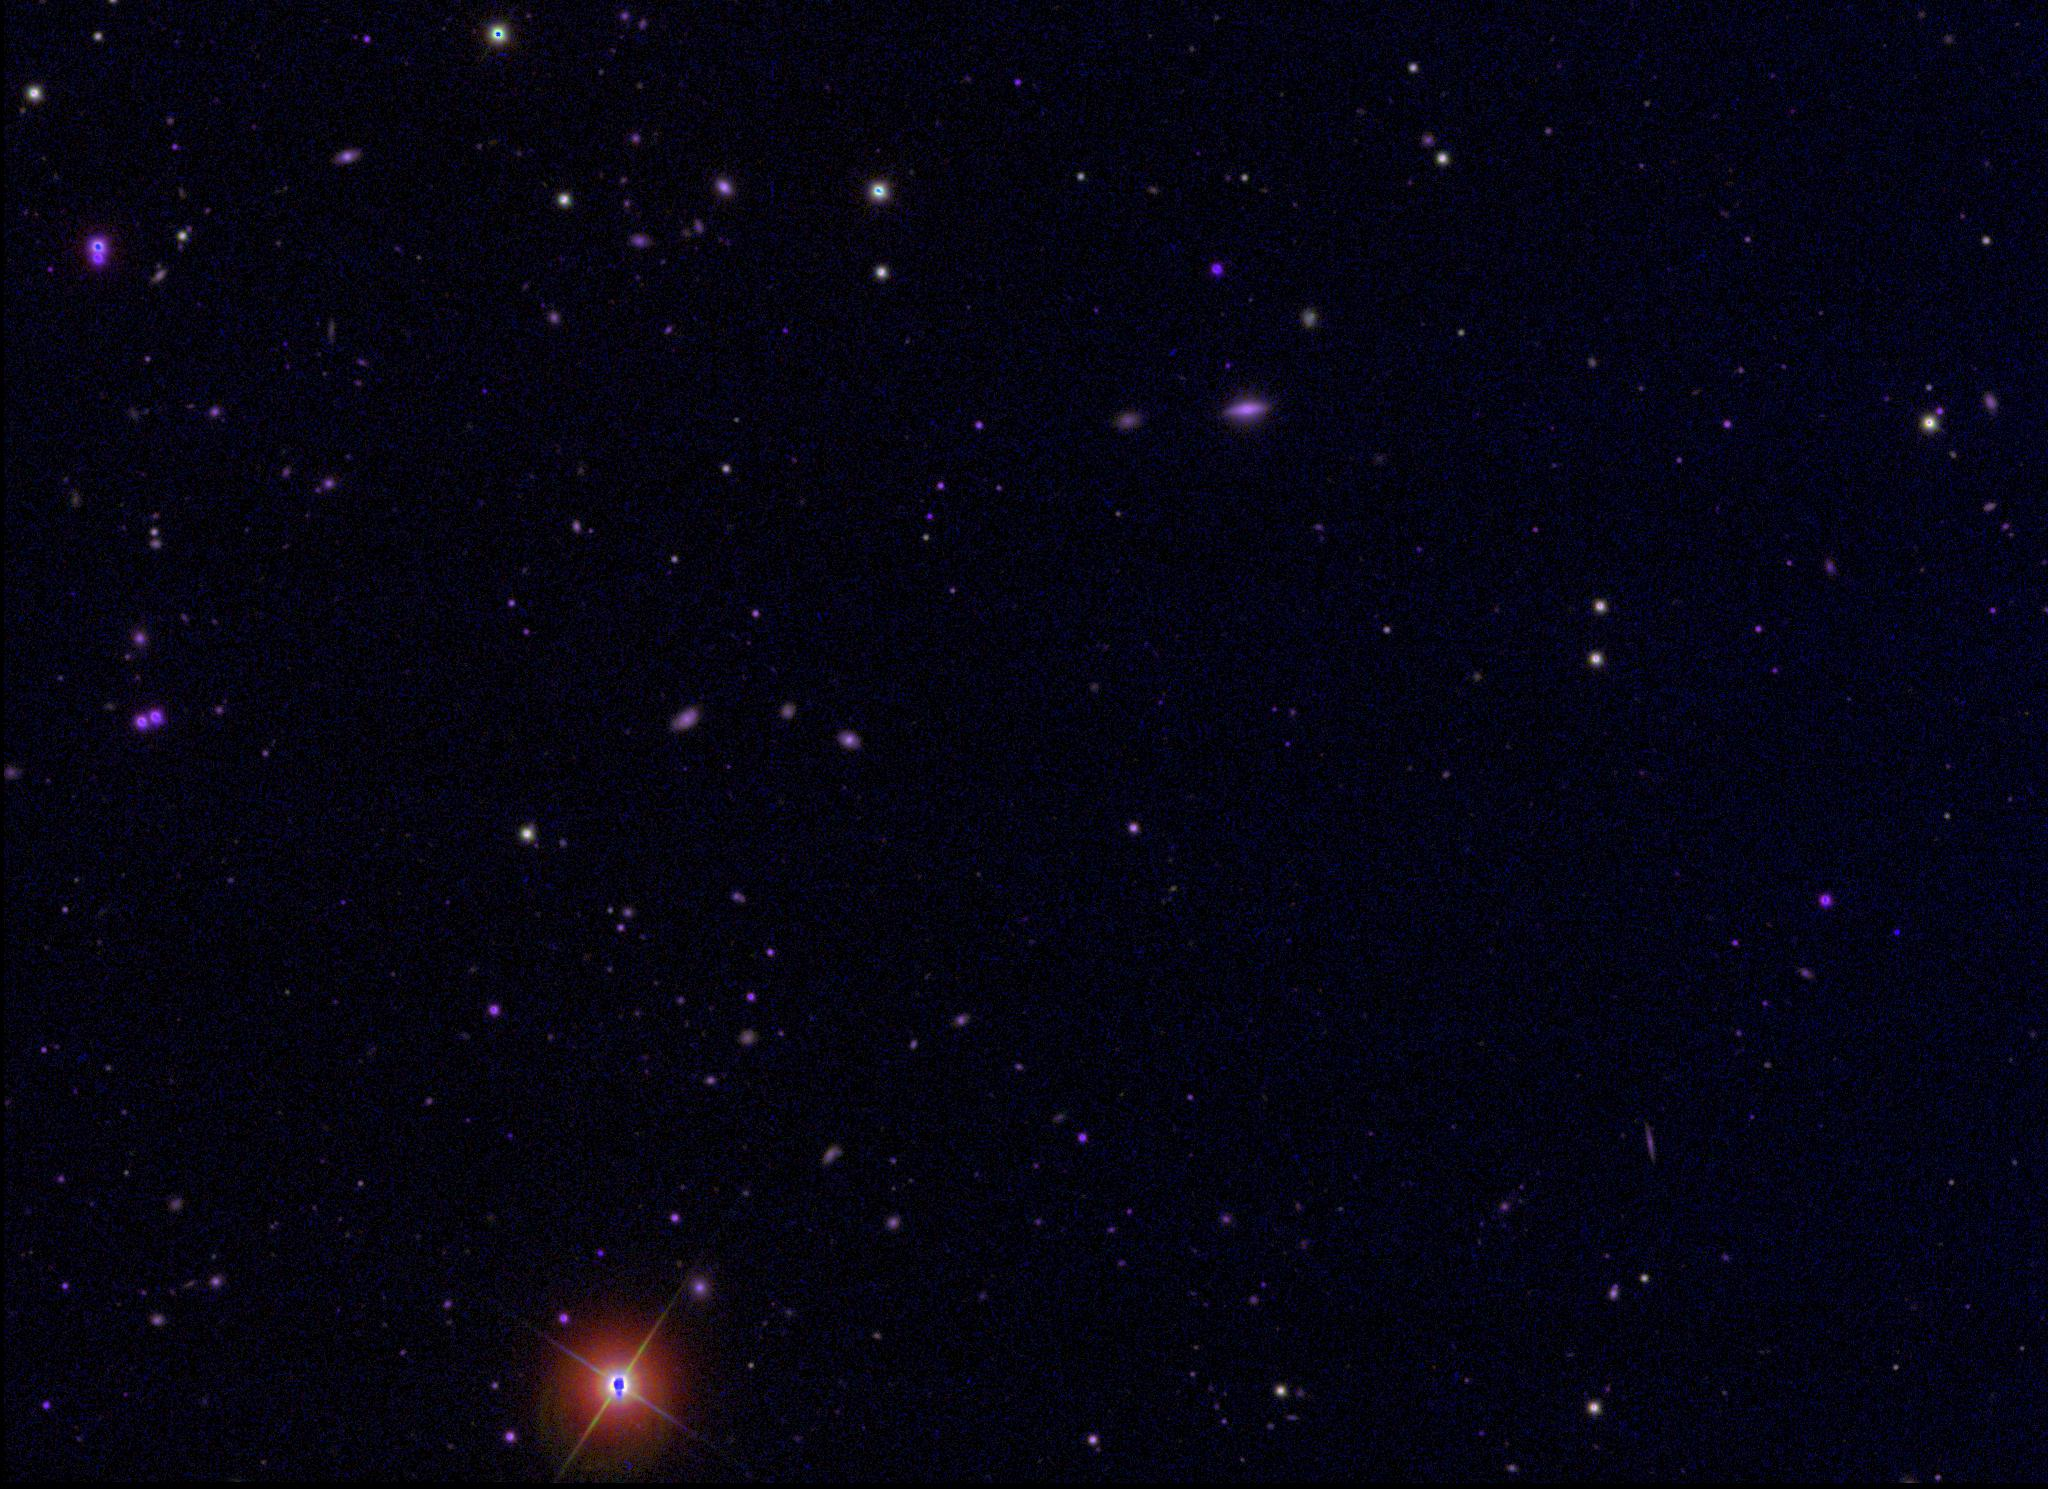L: (1891, 924, 1903, 939)
